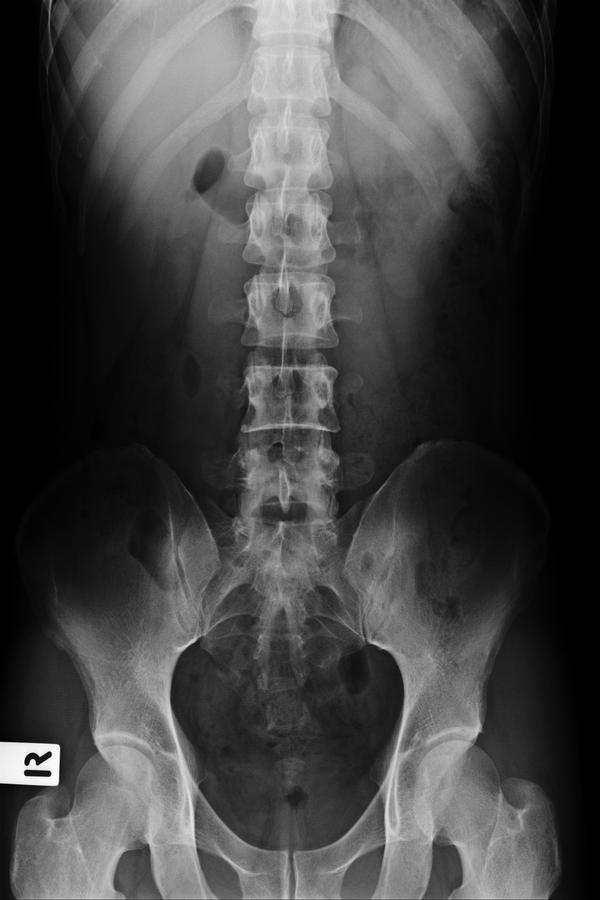not lumbar scoliosis: (242, 192, 347, 554)
